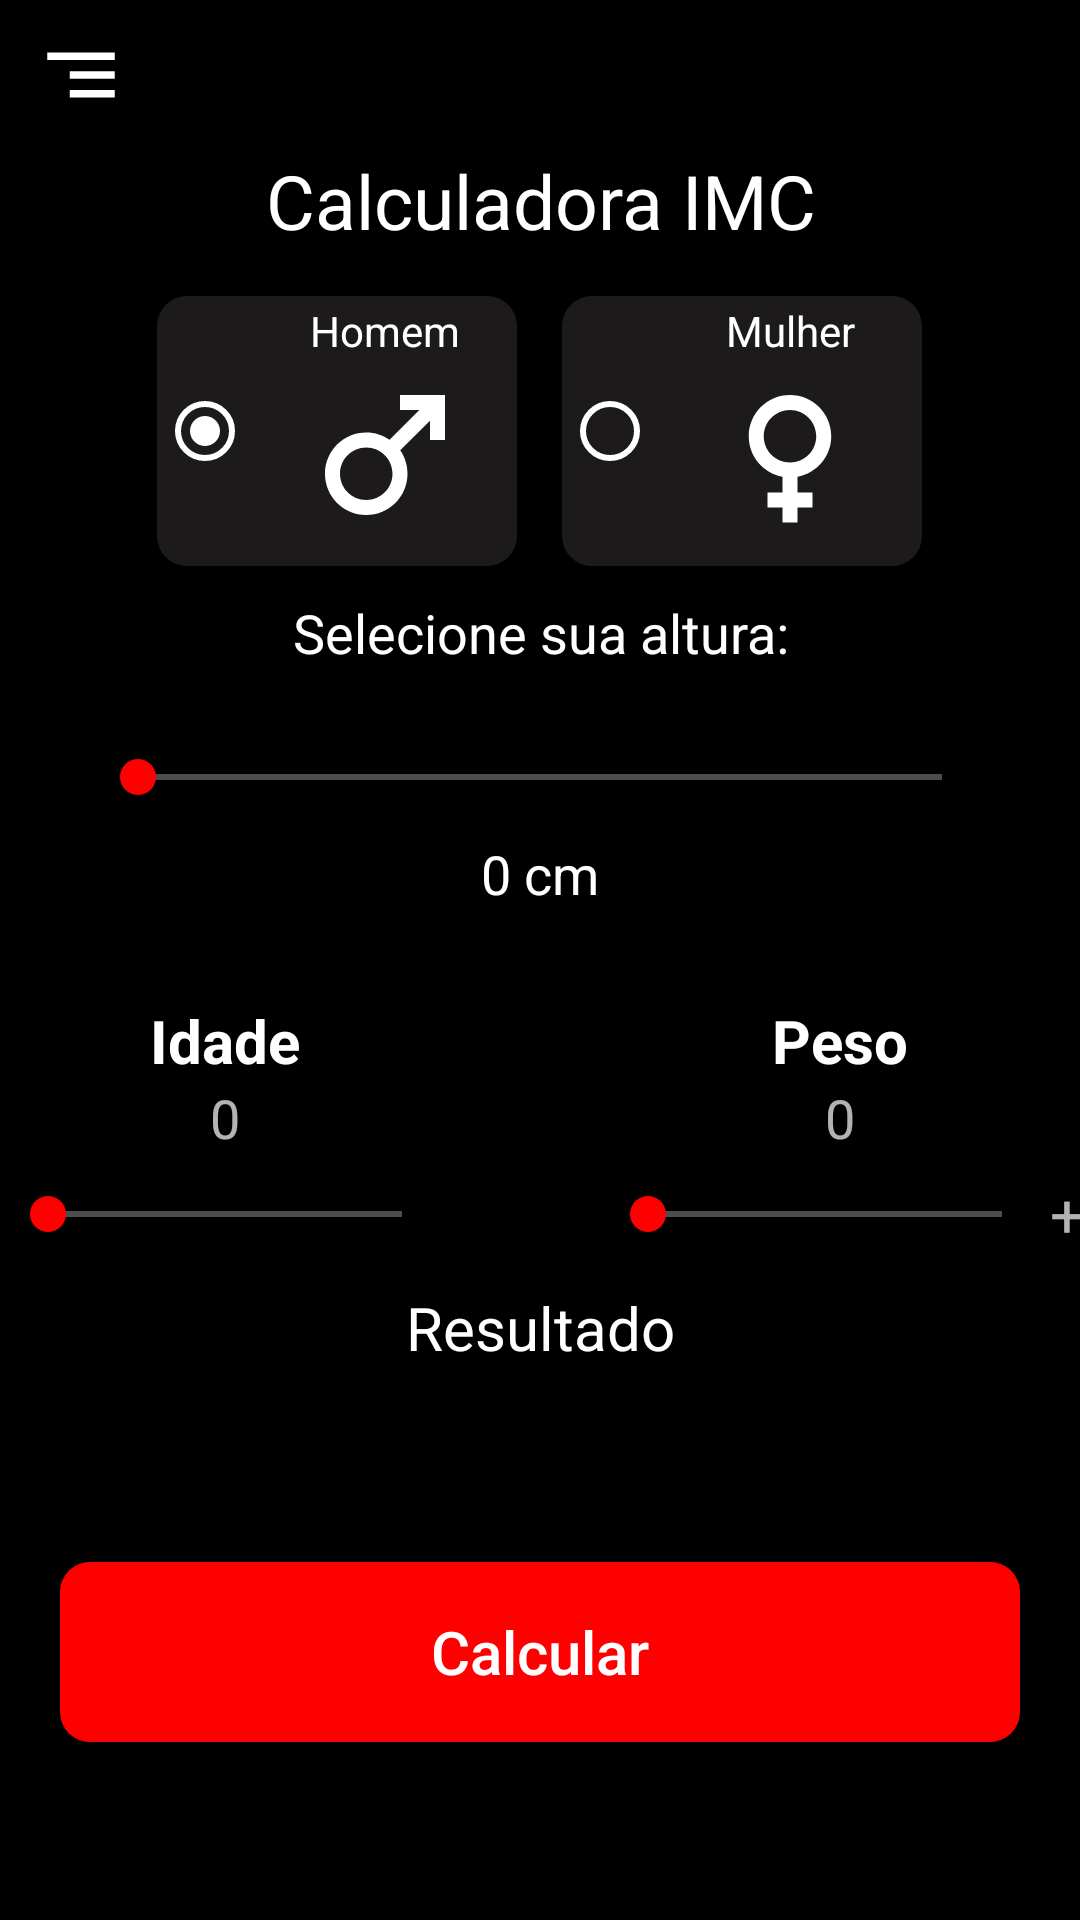

Screen size 1080px×1920px. Icon name, then its box in pixels as (x1, y1, x2, y2):
menu: (47, 52, 115, 98)
